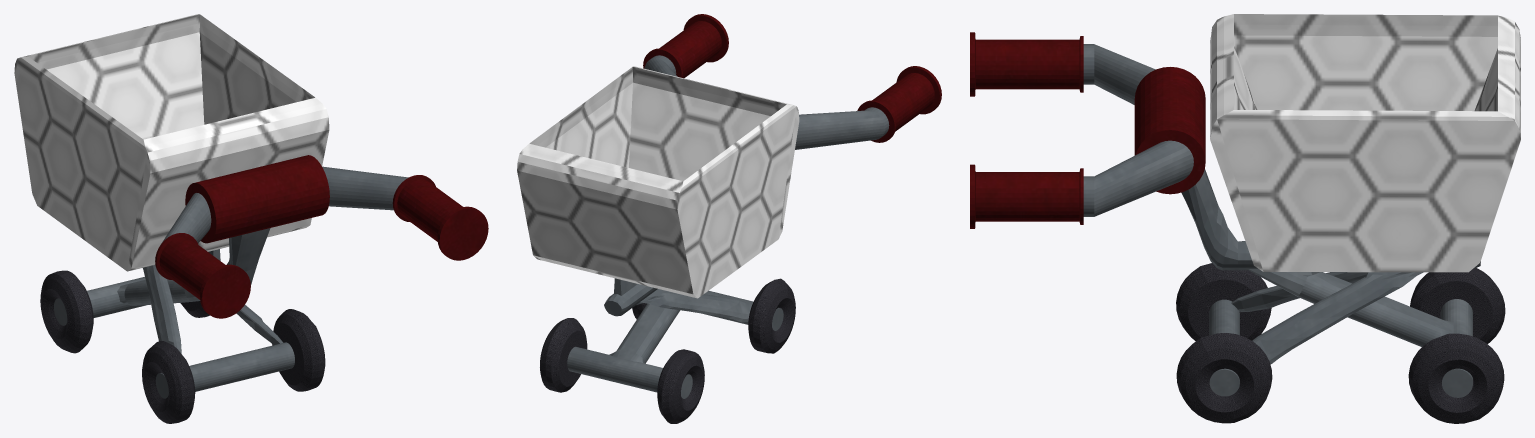
The model's file is shopping_cart_tex.glb.
3 renders of one model, left to right at view 1: azimuth 30°, elevation 25°; view 2: azimuth 150°, elevation 25°; view 3: azimuth 270°, elevation 25°, orthographic. The views are drawn at different scales.
Visible parts, largest first — view 1: Plane.005; view 2: Plane.005; view 3: Plane.005.
Boxes of the visible parts, x1,y1,x2,y2 form: Plane.005: (14,14,488,423); Plane.005: (517,14,941,423); Plane.005: (970,14,1520,423).
Bounding box in the file's own units: 3.08 × 2.96 × 4.5.
4 materials, 4 textured.
